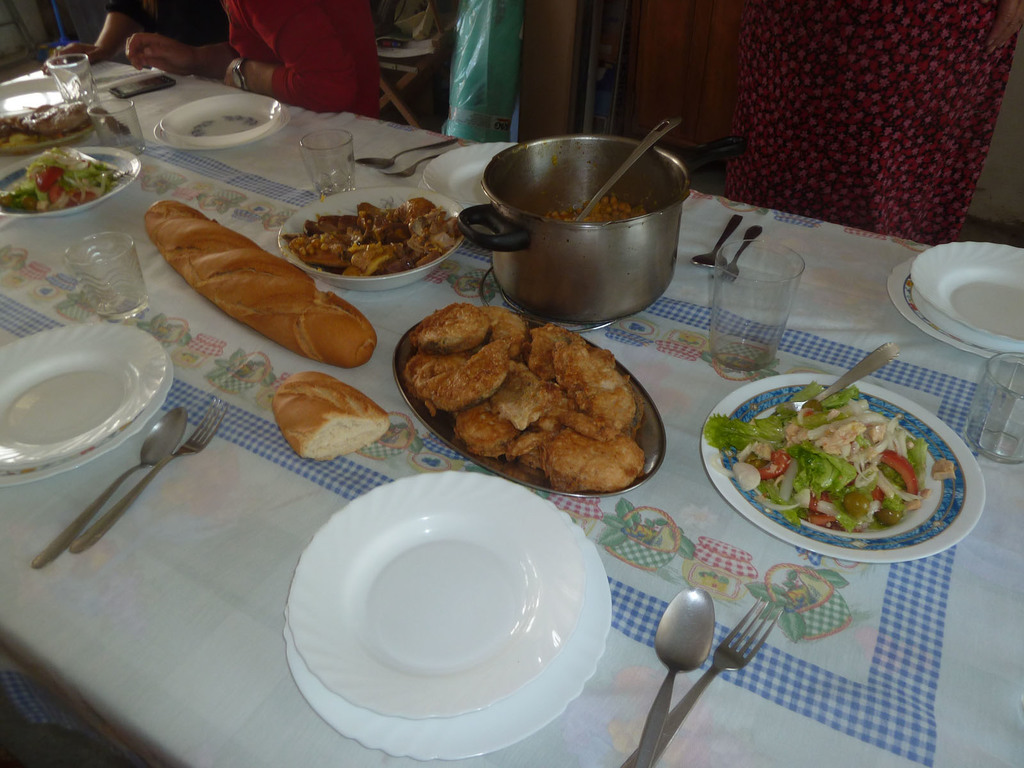plate: (160, 87, 284, 140)
